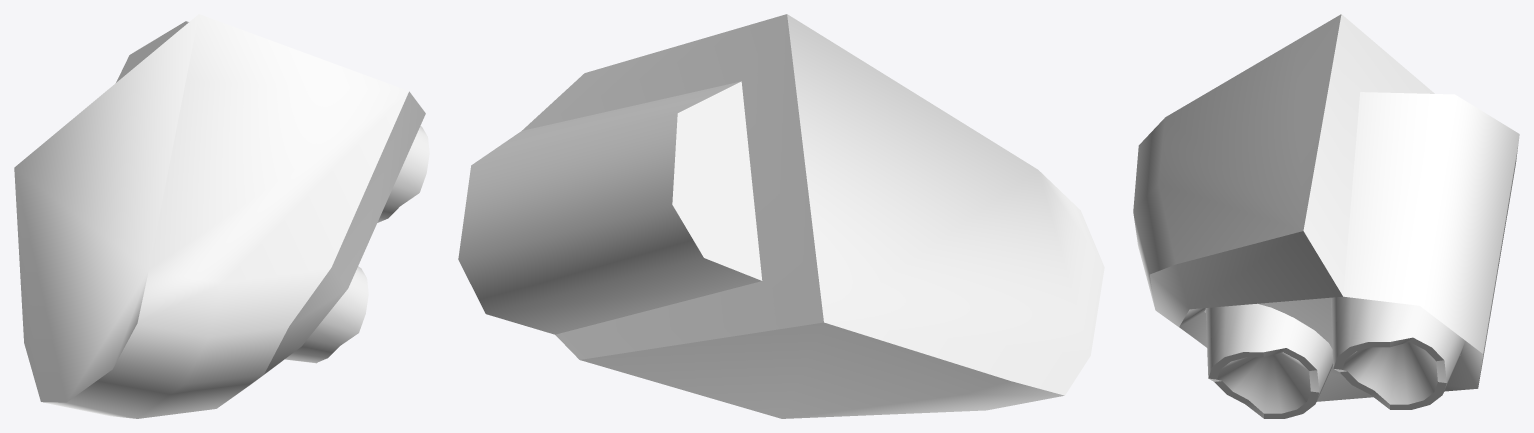
File: ama_collectable_scrap_04.glb
3 views of the same model, side by side, from view 1: azimuth 30°, elevation 25°; view 2: azimuth 150°, elevation 25°; view 3: azimuth 270°, elevation 25° (orthographic). The views are drawn at different scales.
Visible parts, largest first — view 1: shipScrapPart_04; view 2: shipScrapPart_04; view 3: shipScrapPart_04.
Boxes of the visible parts, <box> form: shipScrapPart_04: <box>14,14,429,418</box>; shipScrapPart_04: <box>458,14,1104,418</box>; shipScrapPart_04: <box>1133,14,1519,418</box>.
Size of the model in its own units: 1.16 by 0.8853 by 0.8236.
Materials: 1 (1 with a texture image).
